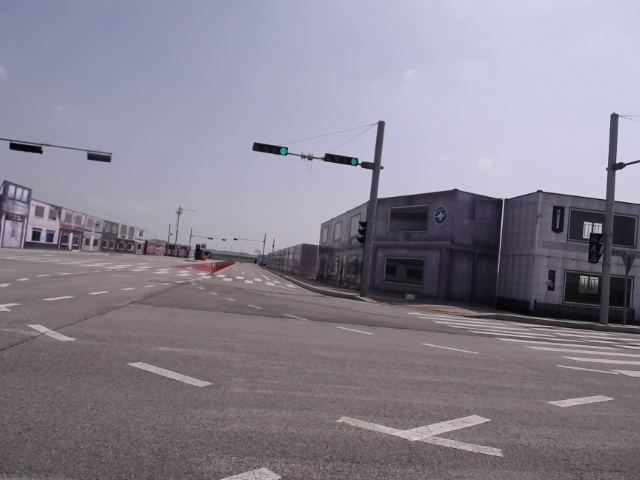straight_green_4: (254, 142, 290, 157), (323, 153, 357, 166)
